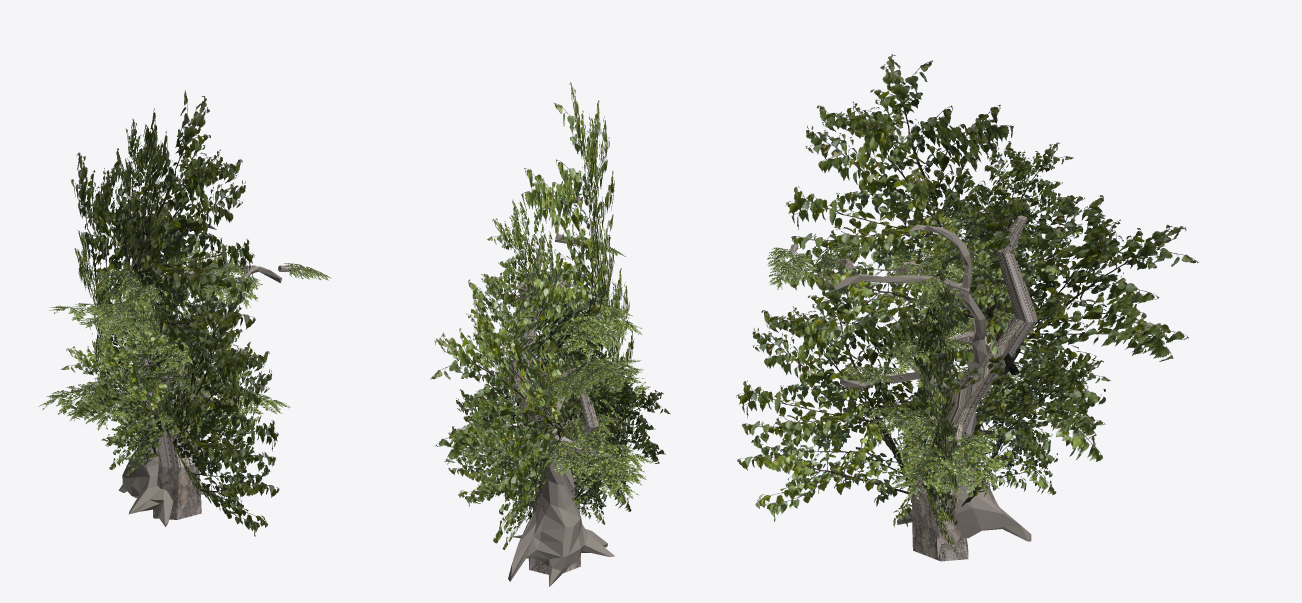
The model's file is nobble-tree.fbx.
3 views of the same model, side by side, from view 1: azimuth 30°, elevation 25°; view 2: azimuth 150°, elevation 25°; view 3: azimuth 270°, elevation 25° (orthographic). The views are drawn at different scales.
Parts seen in each view (by area): view 1: Cylinder.014, Cube.001, Cylinder.004, Cylinder.005, Cylinder.002, Cylinder.012, Cylinder, Cylinder.001, Cylinder.011, Cylinder.007, Cylinder.010, Cylinder.003; view 2: Cylinder.014, Cube.001, Cylinder.005, Cylinder.004, Cylinder.012, Cylinder.001, Cylinder.007, Cylinder.011; view 3: Cylinder.014, Cube.001, Cylinder.011, Cylinder, Cylinder.003, Cylinder.004, Cylinder.006, Cylinder.010, Cylinder.002.
Boxes of the visible parts, bbox=[...] form: Cylinder.014: bbox=[61, 90, 279, 536]; Cube.001: bbox=[94, 224, 282, 526]; Cylinder.004: bbox=[85, 252, 208, 318]; Cylinder.005: bbox=[38, 367, 148, 430]; Cylinder.002: bbox=[202, 260, 262, 308]; Cylinder.012: bbox=[49, 305, 157, 343]; Cylinder: bbox=[127, 317, 217, 375]; Cylinder.001: bbox=[72, 303, 155, 332]; Cylinder.011: bbox=[181, 383, 290, 416]; Cylinder.007: bbox=[123, 369, 196, 393]; Cylinder.010: bbox=[141, 404, 218, 437]; Cylinder.003: bbox=[278, 263, 331, 280]; Cylinder.014: bbox=[430, 81, 670, 574]; Cube.001: bbox=[508, 236, 614, 586]; Cylinder.005: bbox=[530, 434, 653, 498]; Cylinder.004: bbox=[516, 273, 642, 360]; Cylinder.012: bbox=[521, 359, 644, 406]; Cylinder.001: bbox=[534, 357, 622, 393]; Cylinder.007: bbox=[559, 379, 650, 454]; Cylinder.011: bbox=[444, 423, 533, 466]; Cylinder.014: bbox=[736, 54, 1198, 561]; Cube.001: bbox=[834, 224, 1031, 558]; Cylinder.011: bbox=[891, 418, 1008, 500]; Cylinder: bbox=[870, 323, 974, 367]; Cylinder.003: bbox=[767, 244, 818, 289]; Cylinder.004: bbox=[886, 246, 995, 277]; Cylinder.006: bbox=[878, 257, 969, 296]; Cylinder.010: bbox=[859, 405, 938, 436]; Cylinder.002: bbox=[809, 242, 870, 275].
Size of the model in its own units: 3442 by 6099 by 5333.
